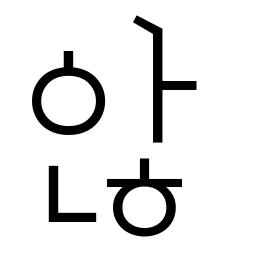Gaji: (137, 67, 180, 107)
